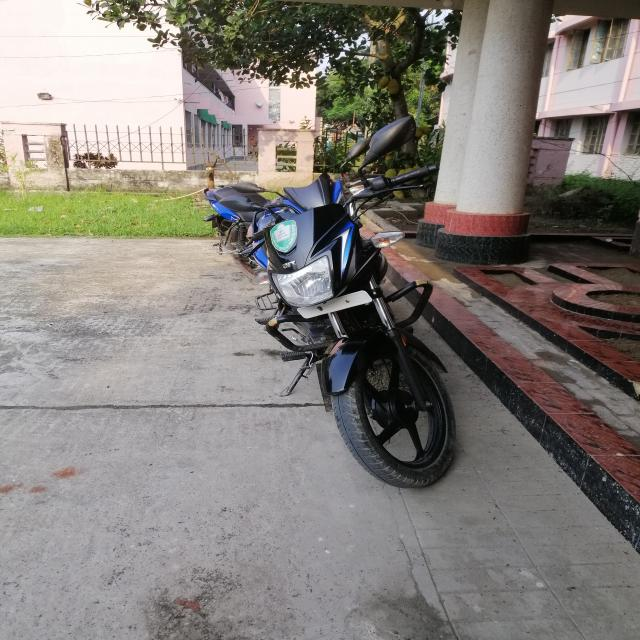Motorbike: (215, 114, 476, 490)
